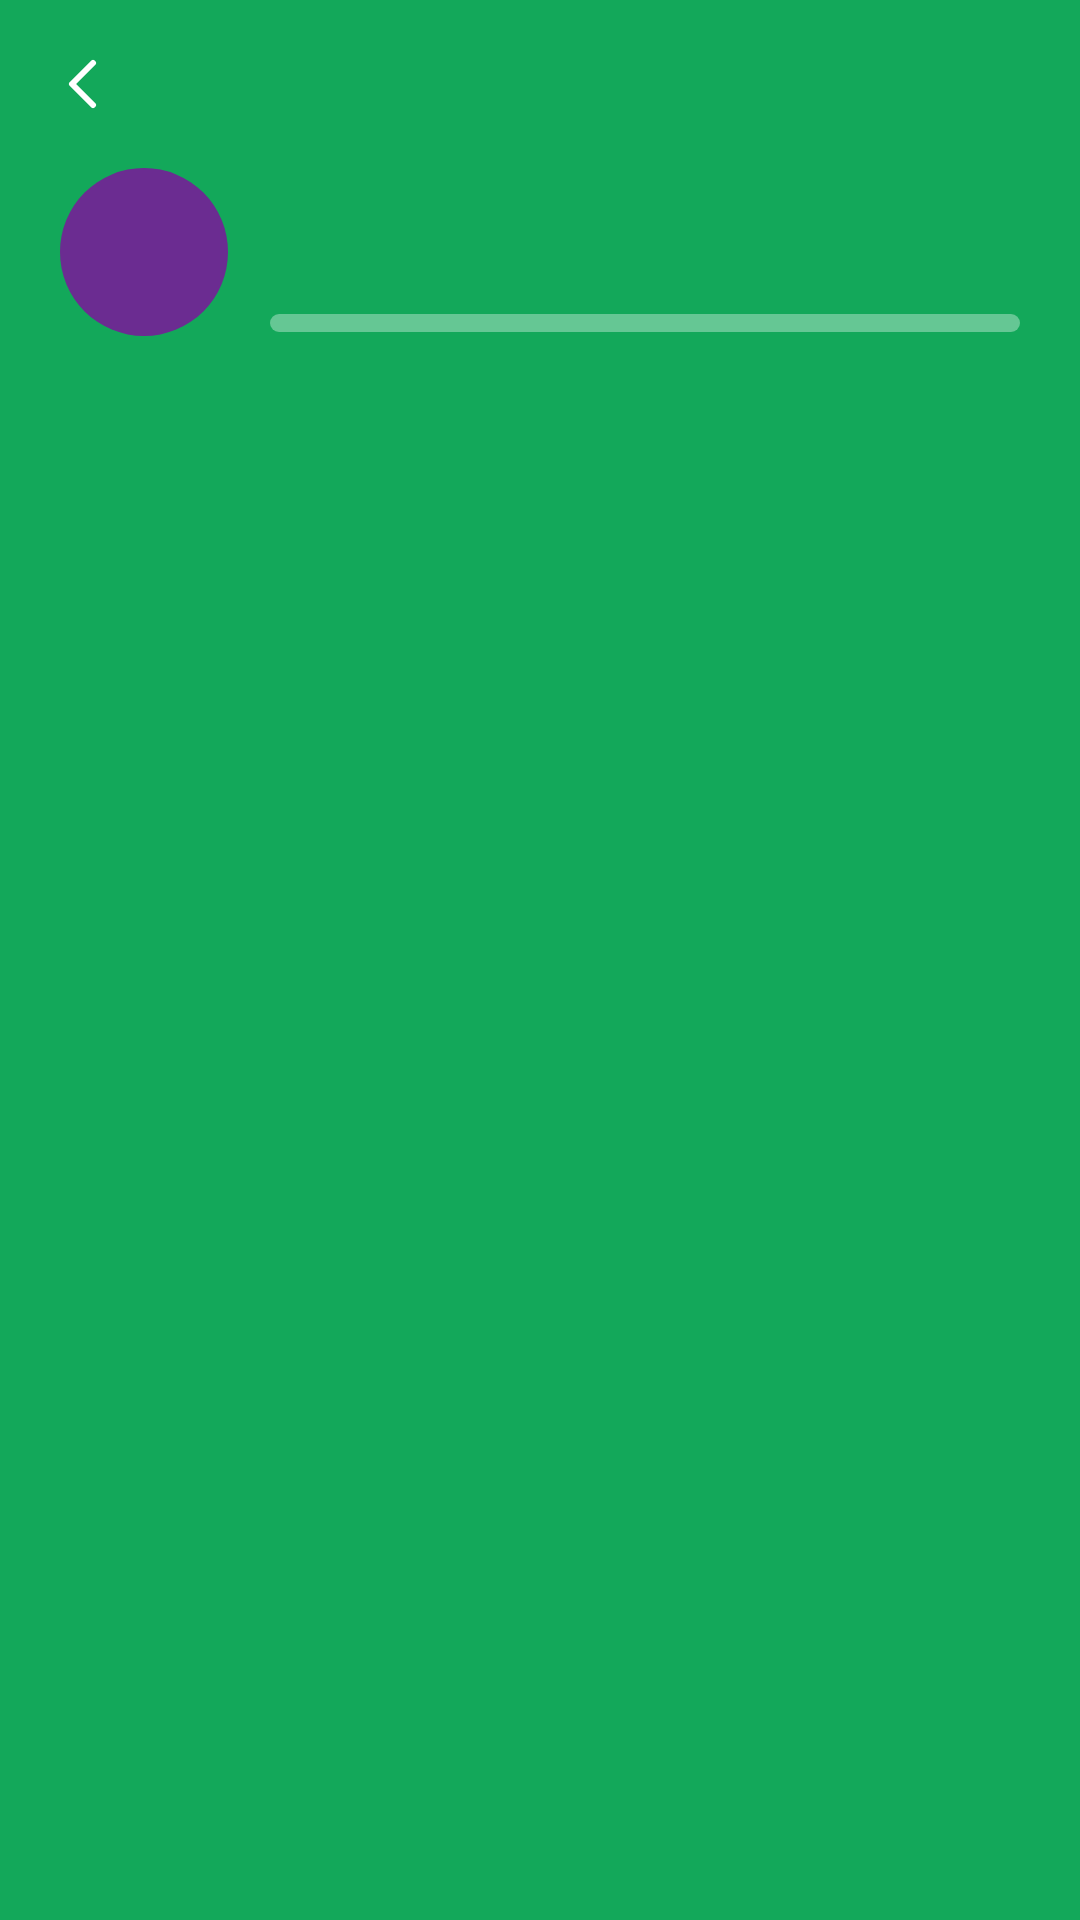

Screen size 1080w x 1920h. Icon name, then its center in pixels as (x,y):
Atrás: (82,84)
